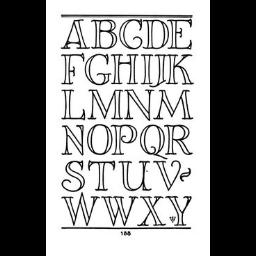a: (60, 18, 90, 50)
b: (90, 17, 120, 51)
d: (144, 17, 170, 51)
g: (84, 50, 112, 88)
k: (167, 51, 193, 87)
l: (60, 89, 88, 123)
m: (155, 86, 195, 120), (88, 88, 122, 122)
n: (125, 86, 155, 122), (60, 123, 86, 157)
o: (86, 124, 114, 156)
p: (108, 122, 138, 158)
r: (162, 122, 196, 158)
s: (59, 157, 89, 193)
t: (88, 156, 116, 192)
u: (119, 154, 153, 196)
w: (62, 194, 100, 228), (103, 194, 137, 228)
x: (138, 193, 164, 227)
y: (166, 192, 194, 228)
